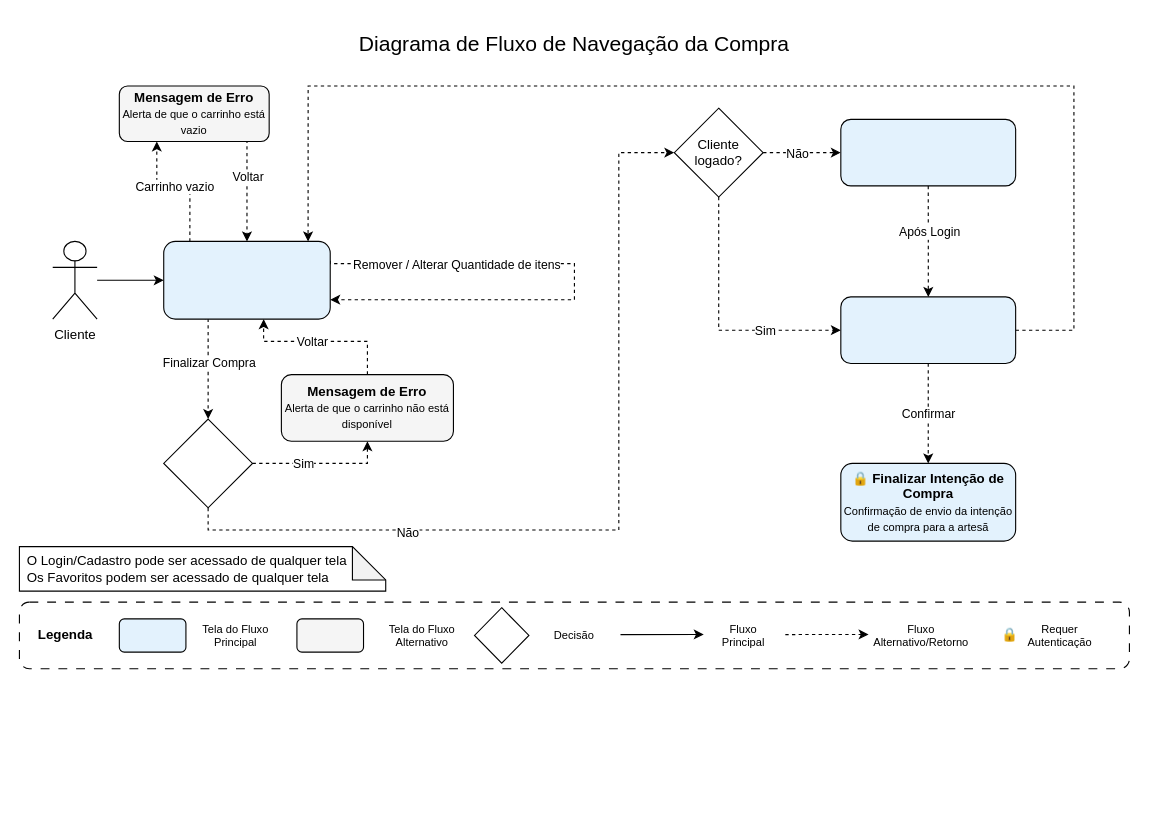
This 1151x815 diagram has some shape labels left out. Each missing label, with the centre of its shape:
"Carrinho de Compras Itens selecionados e o preço total" goes at (x=246, y=279).
"Pedido de Confirmação Resumo dos itens e preço" goes at (x=928, y=330).
"Produto em falta?" goes at (x=208, y=463).
"🔒 Login / Cadastro Acesso para clientes / artesãs ou criação de nova conta" goes at (x=928, y=152).
